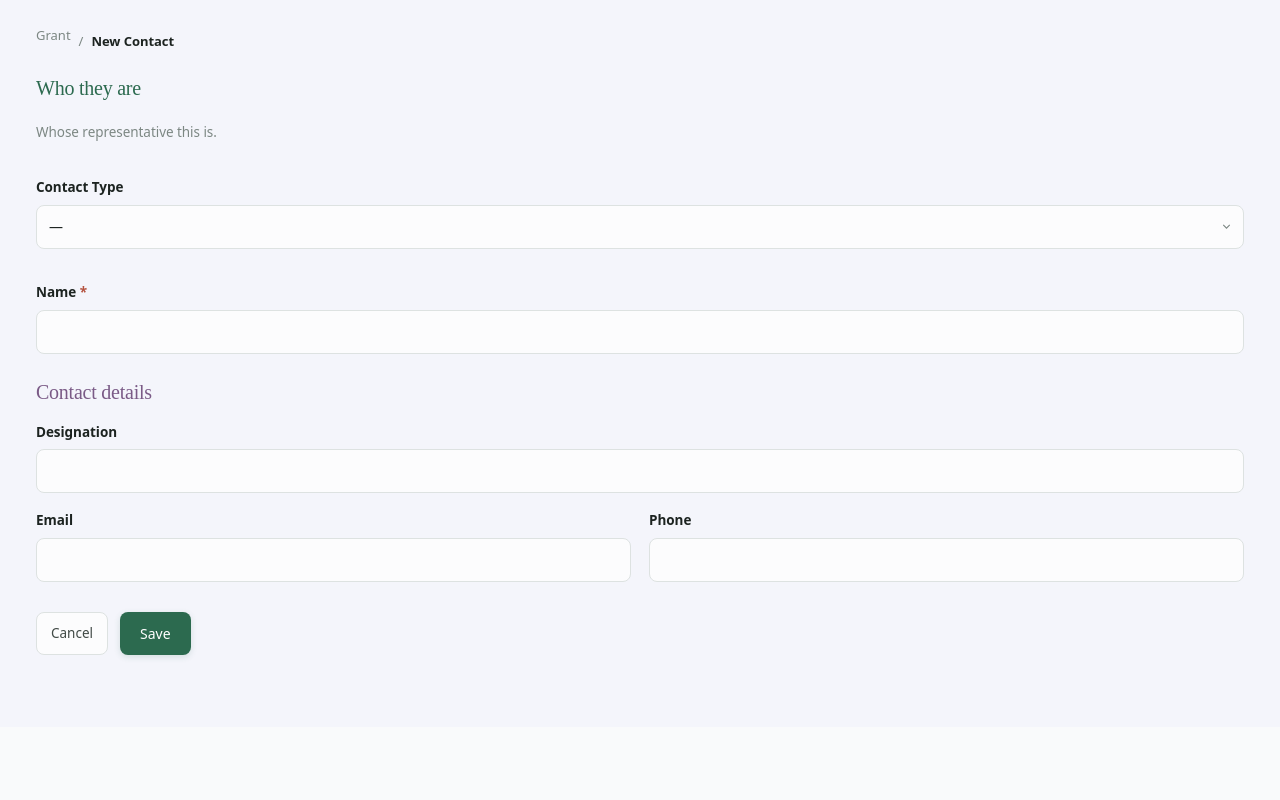
Test case: creating a contact › picking a known name prefills email and phone
Type "Sameer Joshi" into the field labelled "Name *". click: (640, 332)
box: [36,310,1244,354]
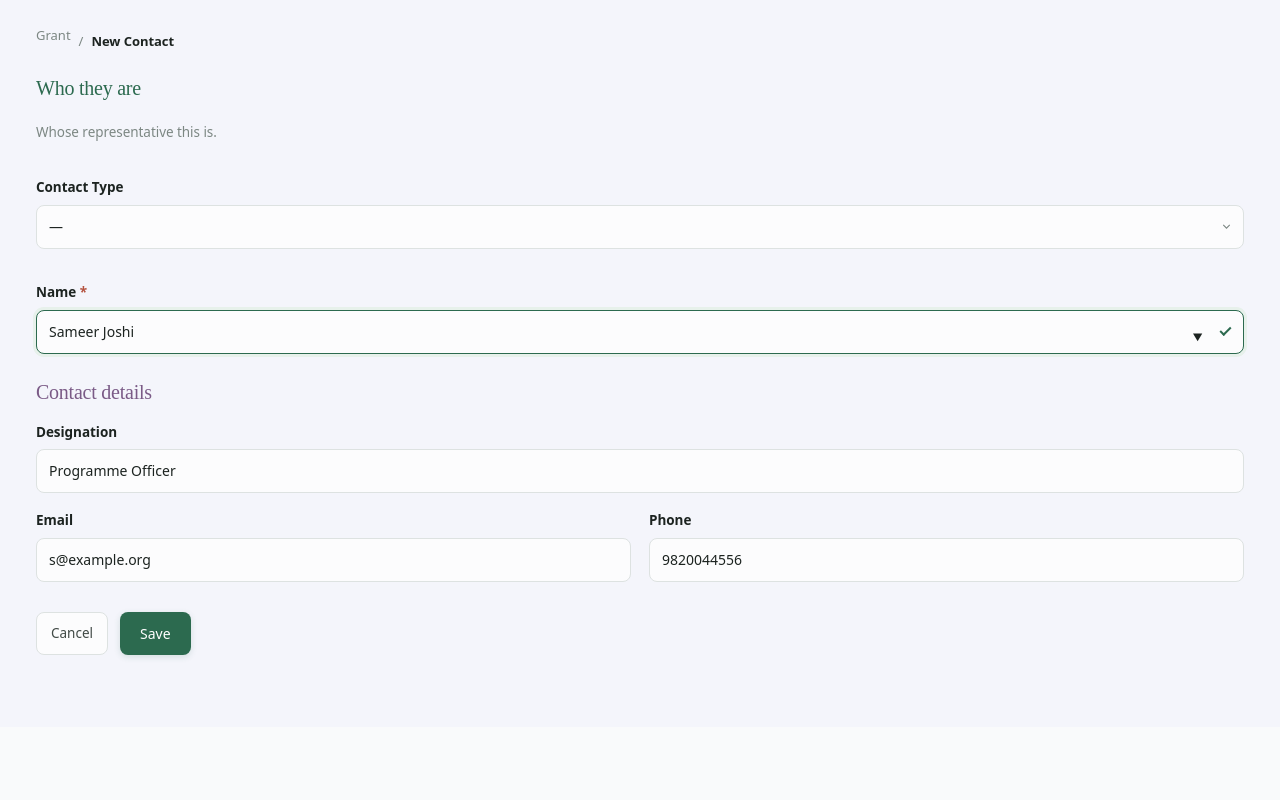
Expected: the field labelled "Email" holds "s@example.org", [36,538,631,582]
Expected: the field labelled "Phone" holds "9820044556", [649,538,1244,582]
